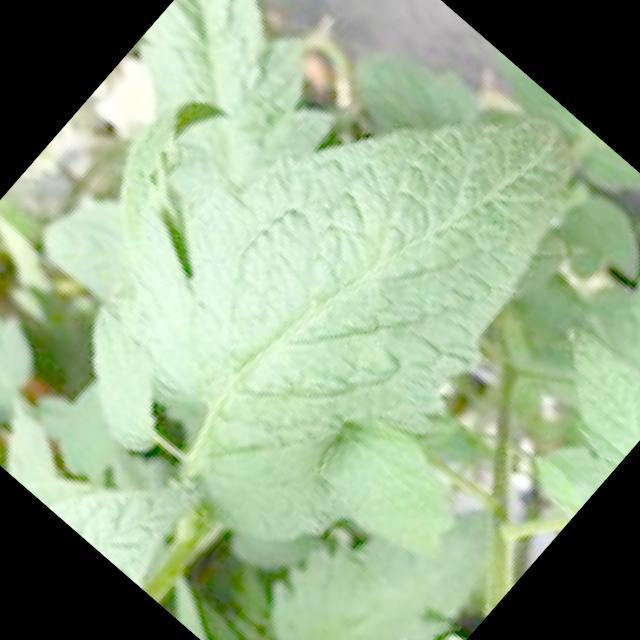Tomato healthy leaf: (121, 86, 585, 560)
